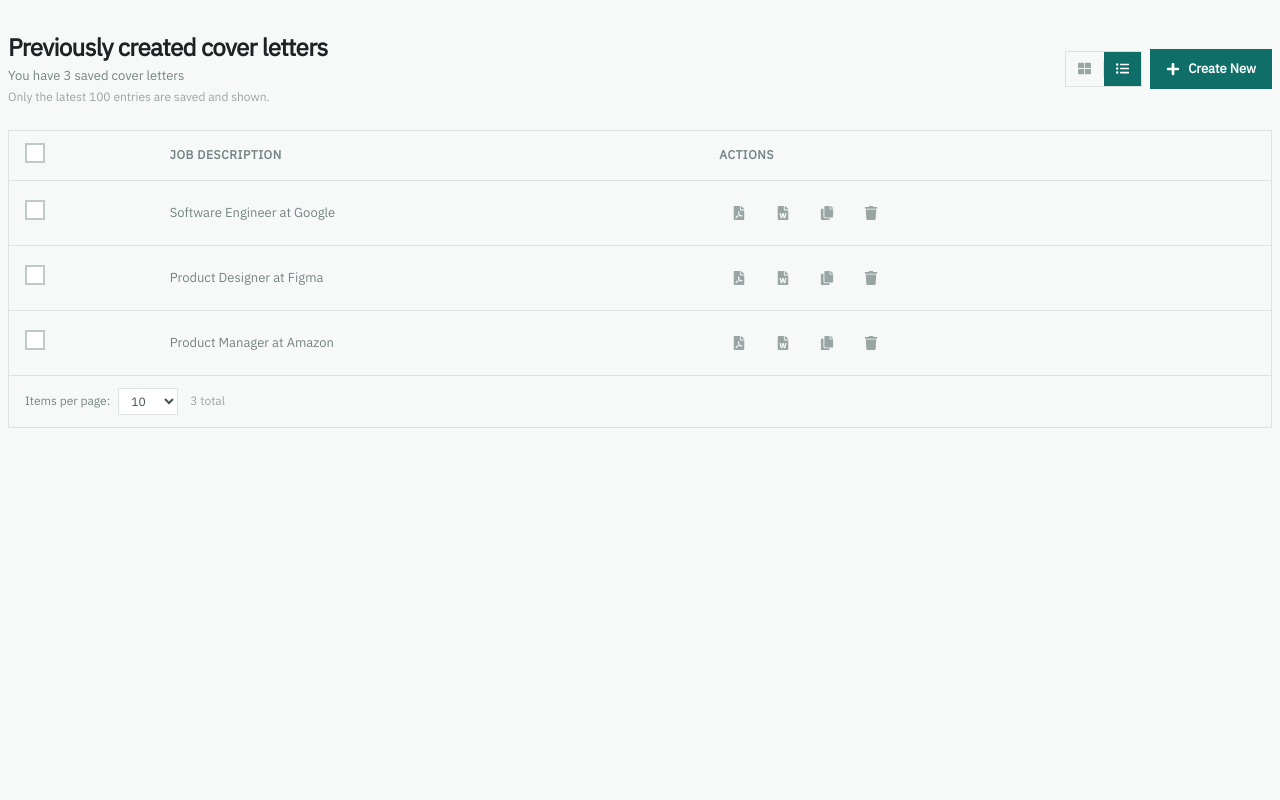
it: PreviousCoverLettersView — integration › shows batch delete confirm modal
Expected: the text "Software Engineer at Google" is shown, [170,204,335,221]
Click the checkbox next to "Job Description" at (35, 152), box [25,142,45,162]
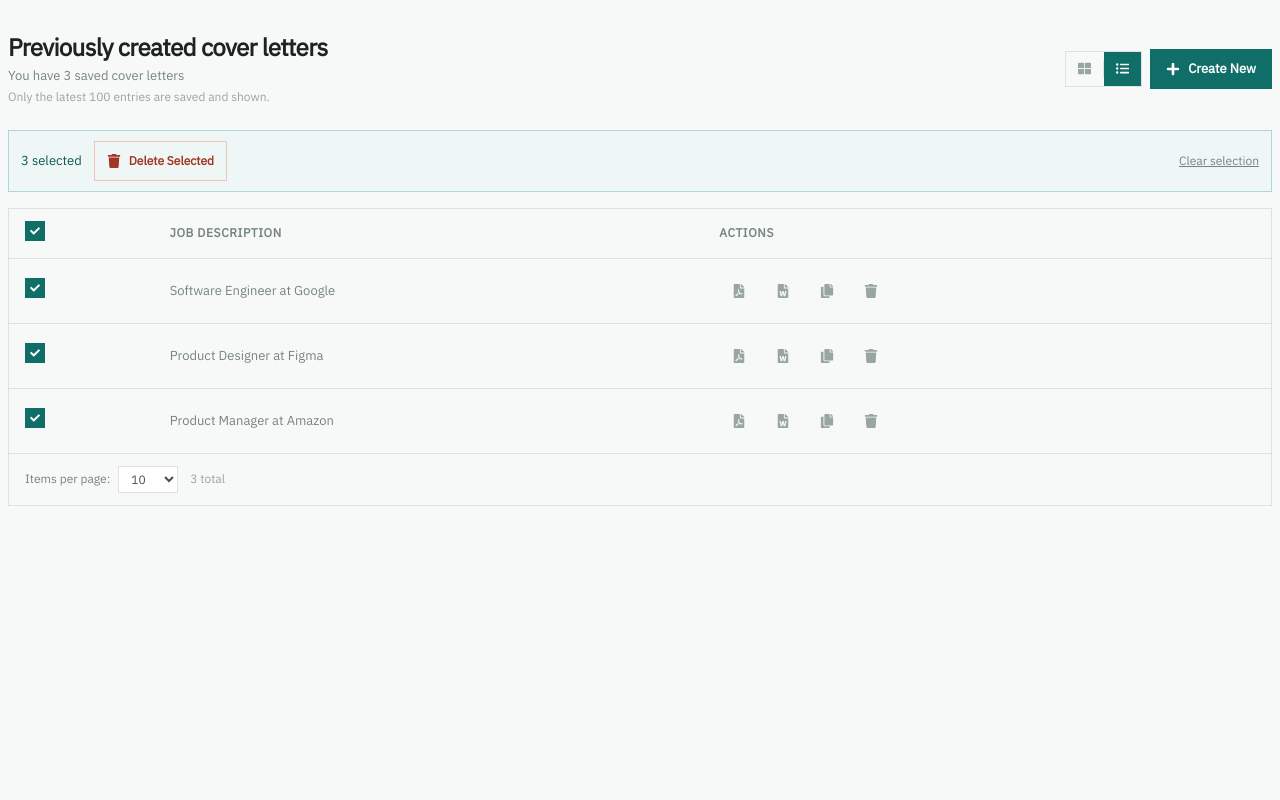
Expected: the text "Delete Selected" is shown, [129,152,214,170]
Click the button "Delete Selected" at (160, 160), box [94,140,227,180]
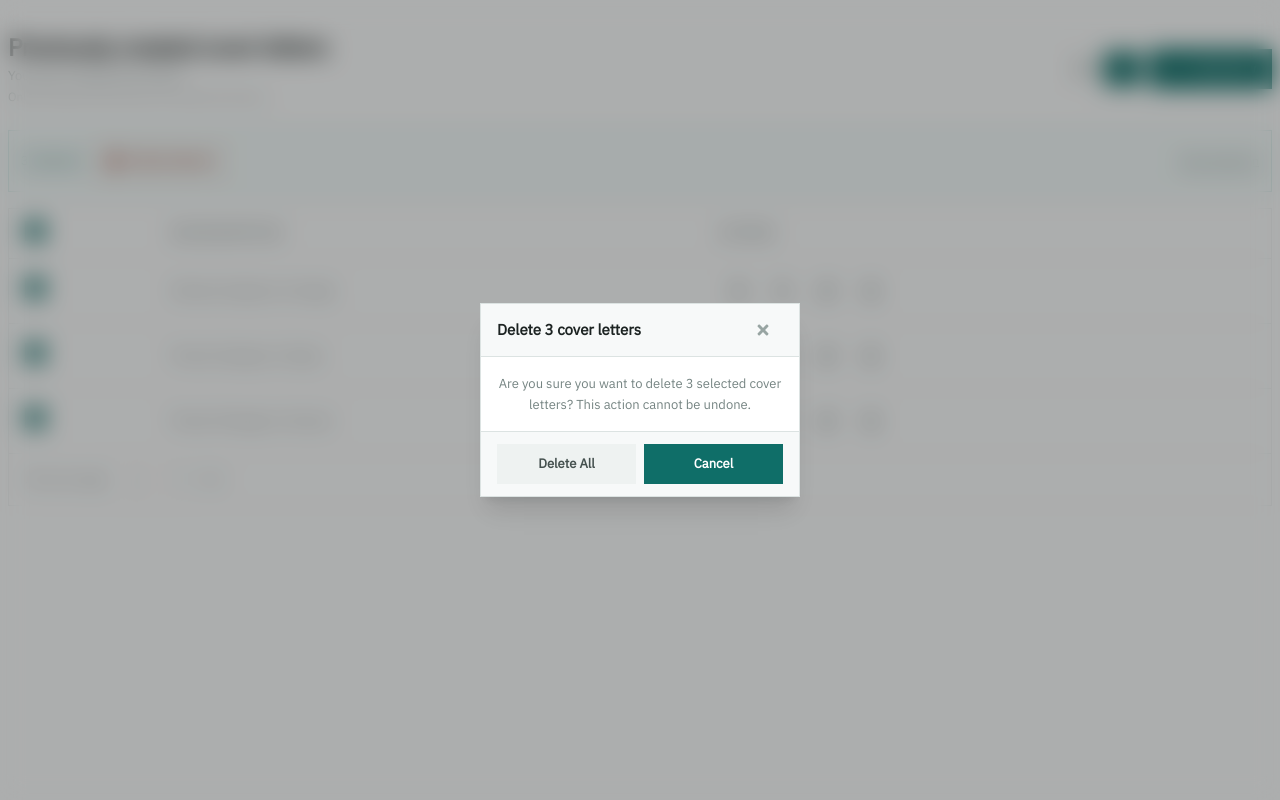
Expected: the heading "Delete 3 cover letters" is shown, [497,318,641,342]
Expected: the text "Delete All" is shown, [538,454,595,474]
